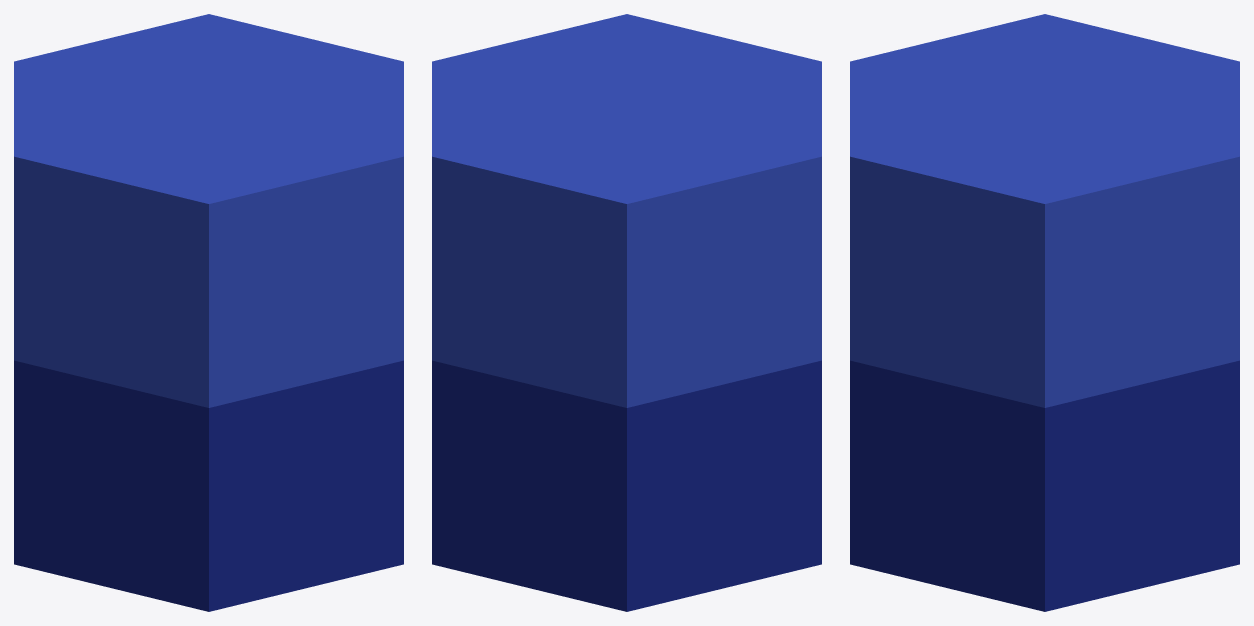
The model's file is Water_Tile_FullOpacity.fbx.
The picture shows the model from 3 angles, left to right: view 1: azimuth 30°, elevation 25°; view 2: azimuth 150°, elevation 25°; view 3: azimuth 270°, elevation 25°; orthographic projection.
Parts seen in each view (by area): view 1: Gengon002, Gengon001; view 2: Gengon002, Gengon001; view 3: Gengon002, Gengon001.
Boxes of the visible parts, x1,y1,x2,y2 form: Gengon002: [14, 14, 403, 407]; Gengon001: [14, 360, 403, 611]; Gengon002: [432, 14, 821, 407]; Gengon001: [432, 360, 821, 611]; Gengon002: [850, 14, 1239, 407]; Gengon001: [850, 360, 1239, 611].
Bounding box in the file's own units: 2 × 2 × 1.73.
